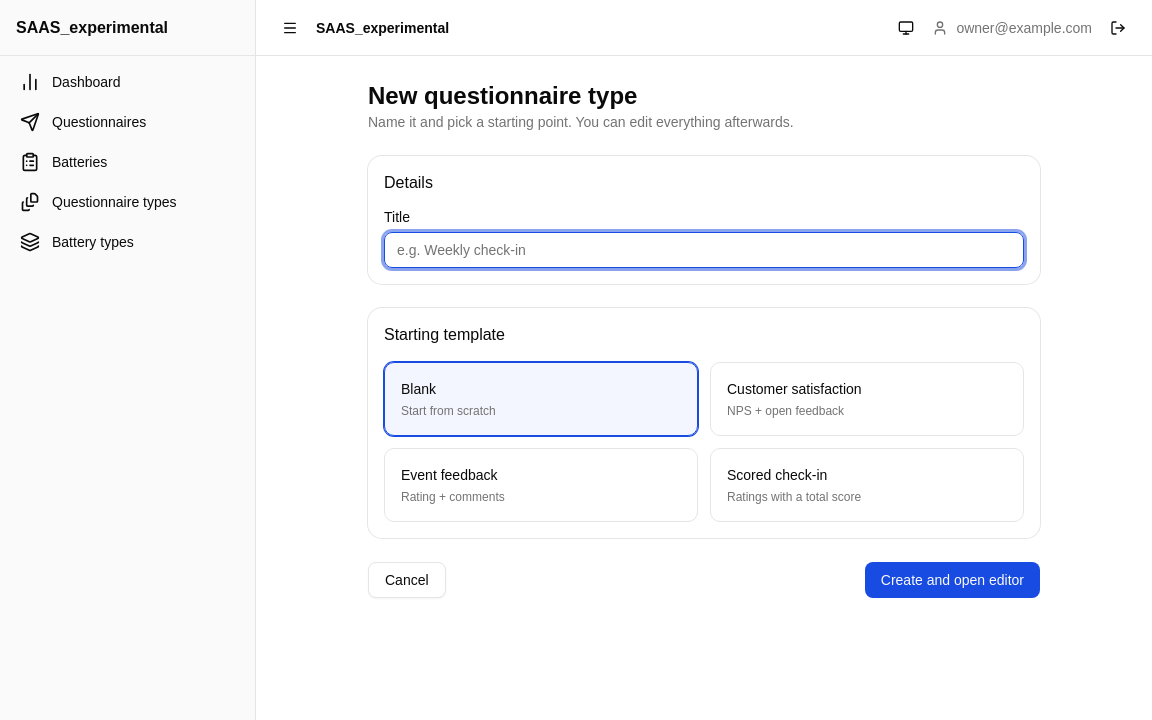
Test: /questionnaire-types/new › validates the title
Click the button "Create and open editor" at (952, 580), box [865,562,1040,598]
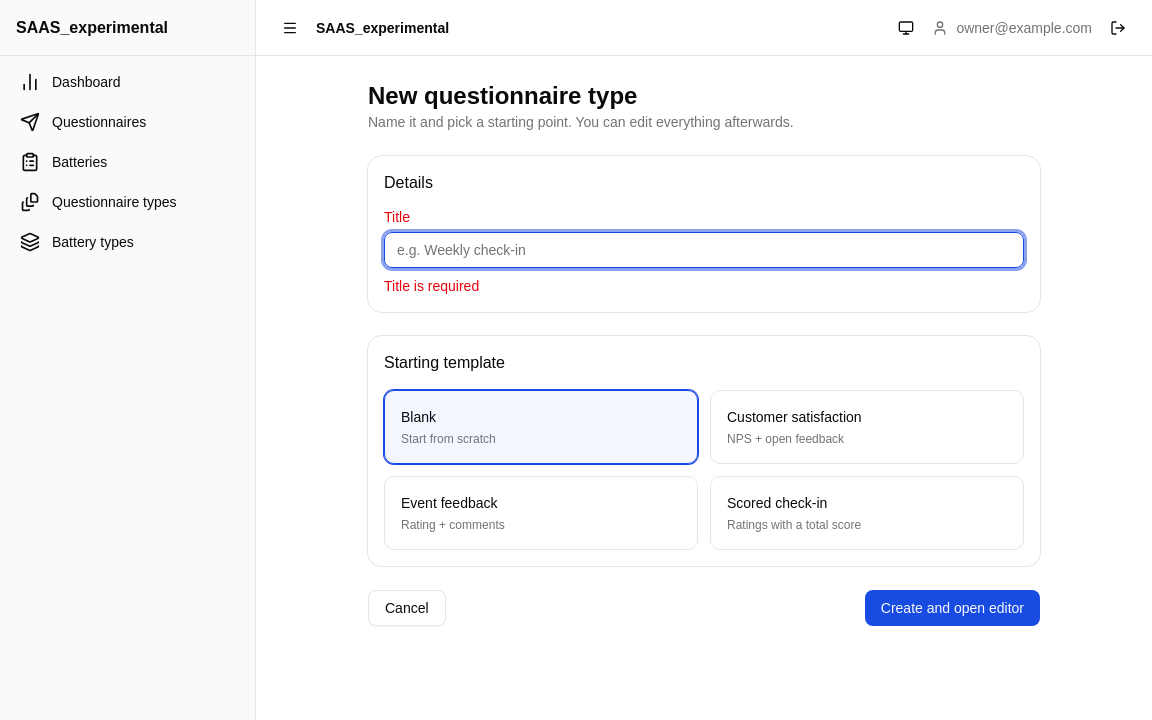
Now the text "Title is required" is shown, box [384,278,479,294]
